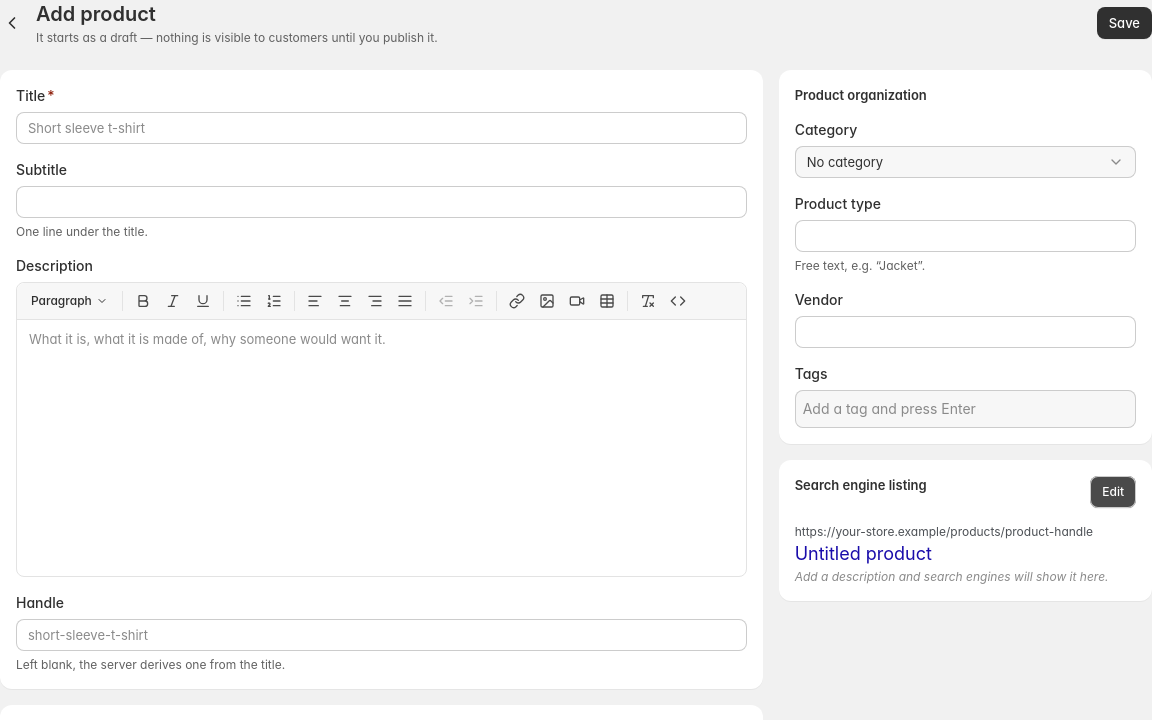
Test case: ProductCreatePage › refuses to submit without a title or a price, and sends nothing
Click the button "Save": (1124, 23) [1097,7,1151,39]
(page scrolled)
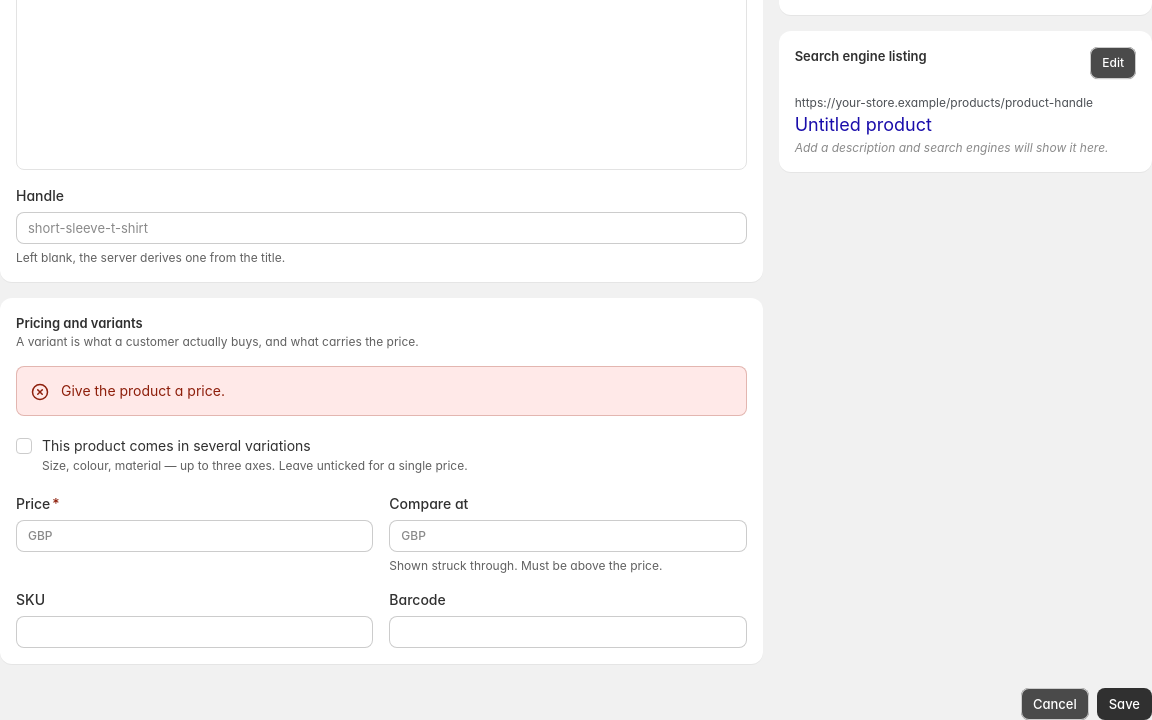
Check: the text "Give the product a price." is shown, box [61,382,225,399]
